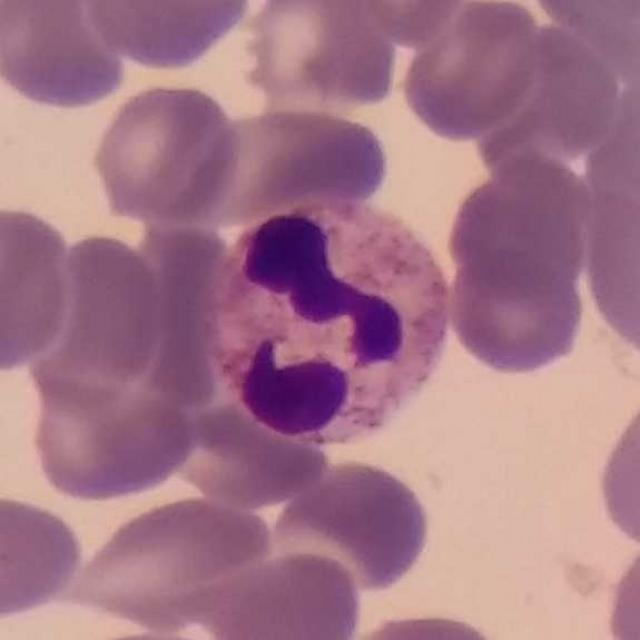Neutrophil: (203, 188, 460, 465)
RBC: (63, 490, 276, 632), (22, 363, 198, 507), (189, 102, 394, 224), (28, 228, 167, 403), (267, 454, 436, 597), (86, 78, 246, 227), (478, 26, 622, 182), (442, 153, 594, 297), (396, 0, 544, 144), (443, 246, 590, 378), (166, 395, 332, 509), (129, 215, 229, 404), (237, 0, 402, 114), (202, 545, 366, 640), (0, 0, 134, 114), (0, 200, 77, 378), (79, 0, 258, 73), (0, 488, 88, 626), (579, 185, 640, 364), (591, 382, 640, 554), (333, 0, 472, 48), (333, 606, 516, 640), (525, 0, 639, 53), (600, 530, 640, 640)
